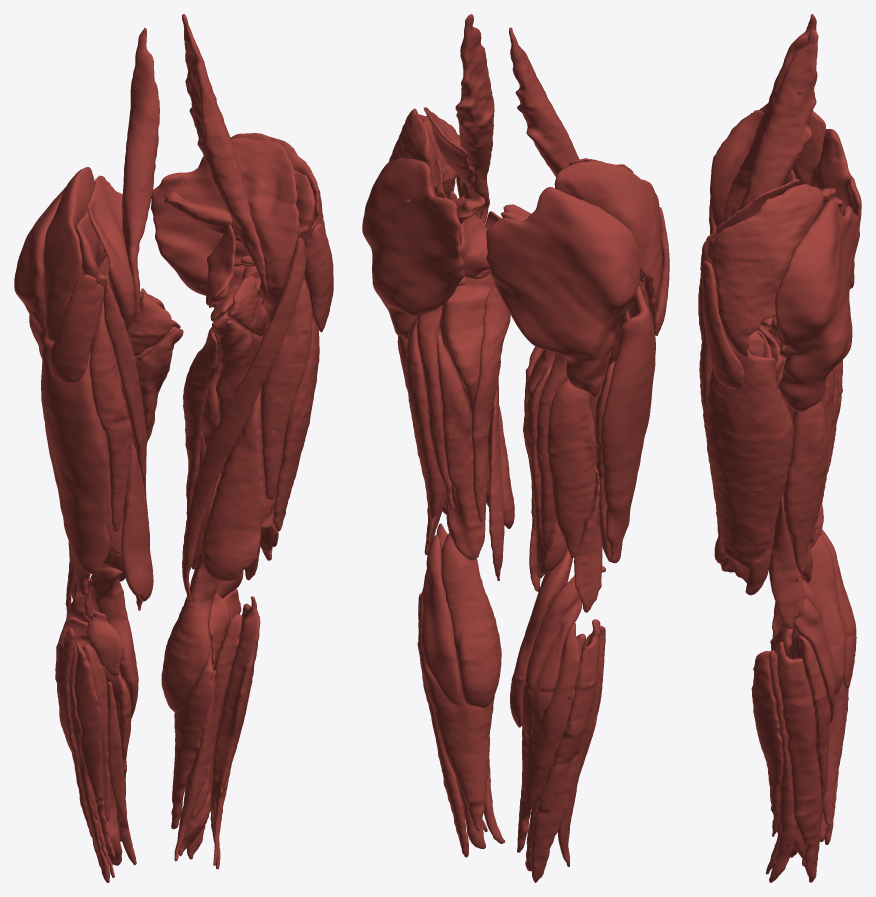
The model's file is vhf_denver_ct_adult_female.muscular.LOD1.glb.
3 views of the same model, side by side, from view 1: azimuth 30°, elevation 25°; view 2: azimuth 150°, elevation 25°; view 3: azimuth 270°, elevation 25° (orthographic).
Visible parts, largest first — view 1: VHF_DENVER_CT.ADULT.FEMALE.MUSCULAR.VASTUS_LATERALIS.R, VHF_DENVER_CT.ADULT.FEMALE.MUSCULAR.GASTROCNEMIUS_MEDIAL_HEA (×2), VHF_DENVER_CT.ADULT.FEMALE.MUSCULAR.VASTUS_MEDIALIS.L, VHF_DENVER_CT.ADULT.FEMALE.MUSCULAR.SARTORIUS.L, VHF_DENVER_CT.ADULT.FEMALE.MUSCULAR.ILIACUS.L, VHF_DENVER_CT.ADULT.FEMALE.MUSCULAR.PSOAS_MAJOR.L, VHF_DENVER_CT.ADULT.FEMALE.MUSCULAR.PSOAS_MAJOR.R, VHF_DENVER_CT.ADULT.FEMALE.MUSCULAR.GLUTEUS_MAXIMUS.L, VHF_DENVER_CT.ADULT.FEMALE.MUSCULAR.RECTUS_FEMORIS.L, VHF_DENVER_CT.ADULT.FEMALE.MUSCULAR.GLUTEUS_MEDIUS.R, VHF_DENVER_CT.ADULT.FEMALE.MUSCULAR.RECTUS_FEMORIS.R, VHF_DENVER_CT.ADULT.FEMALE.MUSCULAR.TIBIALIS_ANTERIOR.L (+32 smaller); view 2: VHF_DENVER_CT.ADULT.FEMALE.MUSCULAR.GLUTEUS_MAXIMUS.R, VHF_DENVER_CT.ADULT.FEMALE.MUSCULAR.GLUTEUS_MAXIMUS.L, VHF_DENVER_CT.ADULT.FEMALE.MUSCULAR.BICEPS_FEMORIS_LONG_HEAD (×2), VHF_DENVER_CT.ADULT.FEMALE.MUSCULAR.GASTROCNEMIUS_MEDIAL_HEA (×2), VHF_DENVER_CT.ADULT.FEMALE.MUSCULAR.VASTUS_LATERALIS.R, VHF_DENVER_CT.ADULT.FEMALE.MUSCULAR.GASTROCNEMIUS_LATERAL_HE (×2), VHF_DENVER_CT.ADULT.FEMALE.MUSCULAR.FIBULARIS_PERONEUS_LONGU (×2), VHF_DENVER_CT.ADULT.FEMALE.MUSCULAR.GLUTEUS_MEDIUS.R, VHF_DENVER_CT.ADULT.FEMALE.MUSCULAR.SEMIMEMBRANOSUS.L, VHF_DENVER_CT.ADULT.FEMALE.MUSCULAR.SOLEUS.L, VHF_DENVER_CT.ADULT.FEMALE.MUSCULAR.SOLEUS.R, VHF_DENVER_CT.ADULT.FEMALE.MUSCULAR.PSOAS_MAJOR.L (+17 smaller); view 3: VHF_DENVER_CT.ADULT.FEMALE.MUSCULAR.VASTUS_LATERALIS.L, VHF_DENVER_CT.ADULT.FEMALE.MUSCULAR.GLUTEUS_MAXIMUS.L, VHF_DENVER_CT.ADULT.FEMALE.MUSCULAR.GLUTEUS_MEDIUS.L, VHF_DENVER_CT.ADULT.FEMALE.MUSCULAR.PSOAS_MAJOR.L, VHF_DENVER_CT.ADULT.FEMALE.MUSCULAR.FIBULARIS_PERONEUS_LONGU, VHF_DENVER_CT.ADULT.FEMALE.MUSCULAR.BICEPS_FEMORIS_LONG_HEAD, VHF_DENVER_CT.ADULT.FEMALE.MUSCULAR.GASTROCNEMIUS_LATERAL_HE (×2), VHF_DENVER_CT.ADULT.FEMALE.MUSCULAR.GASTROCNEMIUS_MEDIAL_HEA (×2), VHF_DENVER_CT.ADULT.FEMALE.MUSCULAR.TIBIALIS_ANTERIOR.L, VHF_DENVER_CT.ADULT.FEMALE.MUSCULAR.BICEPS_FEMORIS_SHORT_HEA, VHF_DENVER_CT.ADULT.FEMALE.MUSCULAR.ILIACUS.R, VHF_DENVER_CT.ADULT.FEMALE.MUSCULAR.TENSOR_FASCIAE_LATAE.L (+13 smaller).
Boxes of the visible parts, x1,y1,x2,y2 form: VHF_DENVER_CT.ADULT.FEMALE.MUSCULAR.VASTUS_LATERALIS.R: [41, 338, 109, 595]; VHF_DENVER_CT.ADULT.FEMALE.MUSCULAR.GASTROCNEMIUS_MEDIAL_HEA (×2): [89, 557, 218, 718]; VHF_DENVER_CT.ADULT.FEMALE.MUSCULAR.VASTUS_MEDIALIS.L: [202, 387, 266, 581]; VHF_DENVER_CT.ADULT.FEMALE.MUSCULAR.SARTORIUS.L: [182, 238, 305, 607]; VHF_DENVER_CT.ADULT.FEMALE.MUSCULAR.ILIACUS.L: [231, 137, 299, 324]; VHF_DENVER_CT.ADULT.FEMALE.MUSCULAR.PSOAS_MAJOR.L: [182, 14, 267, 299]; VHF_DENVER_CT.ADULT.FEMALE.MUSCULAR.PSOAS_MAJOR.R: [122, 27, 159, 317]; VHF_DENVER_CT.ADULT.FEMALE.MUSCULAR.GLUTEUS_MAXIMUS.L: [150, 156, 290, 295]; VHF_DENVER_CT.ADULT.FEMALE.MUSCULAR.RECTUS_FEMORIS.L: [260, 258, 312, 499]; VHF_DENVER_CT.ADULT.FEMALE.MUSCULAR.GLUTEUS_MEDIUS.R: [43, 167, 94, 341]; VHF_DENVER_CT.ADULT.FEMALE.MUSCULAR.RECTUS_FEMORIS.R: [89, 304, 132, 531]; VHF_DENVER_CT.ADULT.FEMALE.MUSCULAR.TIBIALIS_ANTERIOR.L: [212, 612, 260, 821]; VHF_DENVER_CT.ADULT.FEMALE.MUSCULAR.GLUTEUS_MAXIMUS.R: [486, 187, 640, 396]; VHF_DENVER_CT.ADULT.FEMALE.MUSCULAR.GLUTEUS_MAXIMUS.L: [362, 158, 465, 338]; VHF_DENVER_CT.ADULT.FEMALE.MUSCULAR.BICEPS_FEMORIS_LONG_HEAD (×2): [405, 317, 596, 557]; VHF_DENVER_CT.ADULT.FEMALE.MUSCULAR.GASTROCNEMIUS_MEDIAL_HEA (×2): [441, 533, 572, 727]; VHF_DENVER_CT.ADULT.FEMALE.MUSCULAR.VASTUS_LATERALIS.R: [601, 285, 655, 563]; VHF_DENVER_CT.ADULT.FEMALE.MUSCULAR.GASTROCNEMIUS_LATERAL_HE (×2): [421, 535, 582, 736]; VHF_DENVER_CT.ADULT.FEMALE.MUSCULAR.FIBULARIS_PERONEUS_LONGU (×2): [418, 592, 600, 882]; VHF_DENVER_CT.ADULT.FEMALE.MUSCULAR.GLUTEUS_MEDIUS.R: [554, 160, 662, 304]; VHF_DENVER_CT.ADULT.FEMALE.MUSCULAR.SEMIMEMBRANOSUS.L: [436, 335, 486, 560]; VHF_DENVER_CT.ADULT.FEMALE.MUSCULAR.SOLEUS.L: [417, 588, 494, 831]; VHF_DENVER_CT.ADULT.FEMALE.MUSCULAR.SOLEUS.R: [517, 623, 580, 852]; VHF_DENVER_CT.ADULT.FEMALE.MUSCULAR.PSOAS_MAJOR.L: [455, 14, 494, 224]; VHF_DENVER_CT.ADULT.FEMALE.MUSCULAR.VASTUS_LATERALIS.L: [705, 340, 793, 595]; VHF_DENVER_CT.ADULT.FEMALE.MUSCULAR.GLUTEUS_MAXIMUS.L: [775, 200, 859, 411]; VHF_DENVER_CT.ADULT.FEMALE.MUSCULAR.GLUTEUS_MEDIUS.L: [712, 184, 823, 357]; VHF_DENVER_CT.ADULT.FEMALE.MUSCULAR.PSOAS_MAJOR.L: [740, 29, 818, 209]; VHF_DENVER_CT.ADULT.FEMALE.MUSCULAR.FIBULARIS_PERONEUS_LONGU: [777, 641, 821, 882]; VHF_DENVER_CT.ADULT.FEMALE.MUSCULAR.BICEPS_FEMORIS_LONG_HEAD: [783, 401, 828, 573]; VHF_DENVER_CT.ADULT.FEMALE.MUSCULAR.GASTROCNEMIUS_LATERAL_HE (×2): [793, 529, 856, 723]; VHF_DENVER_CT.ADULT.FEMALE.MUSCULAR.GASTROCNEMIUS_MEDIAL_HEA (×2): [768, 533, 846, 695]; VHF_DENVER_CT.ADULT.FEMALE.MUSCULAR.TIBIALIS_ANTERIOR.L: [751, 651, 783, 836]; VHF_DENVER_CT.ADULT.FEMALE.MUSCULAR.BICEPS_FEMORIS_SHORT_HEA: [768, 493, 804, 629]; VHF_DENVER_CT.ADULT.FEMALE.MUSCULAR.ILIACUS.R: [710, 110, 763, 227]; VHF_DENVER_CT.ADULT.FEMALE.MUSCULAR.TENSOR_FASCIAE_LATAE.L: [702, 261, 744, 389].
Size of the model in its own units: 0.3426 by 1.02 by 0.1782.
